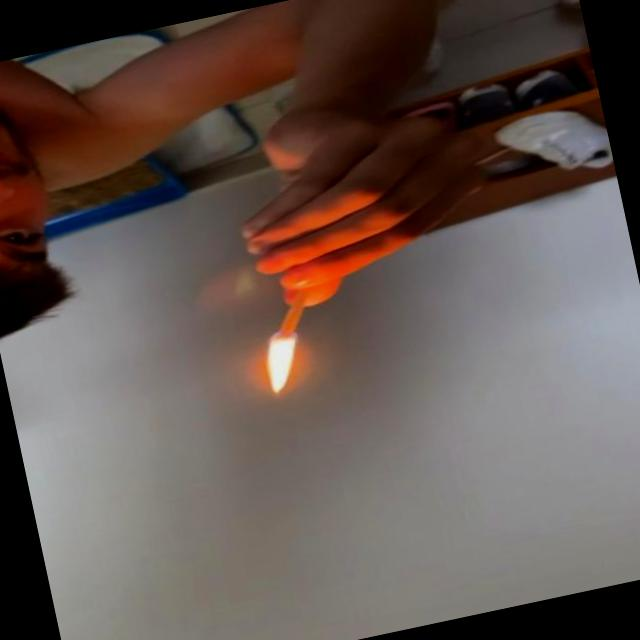fire: (257, 325, 310, 397)
